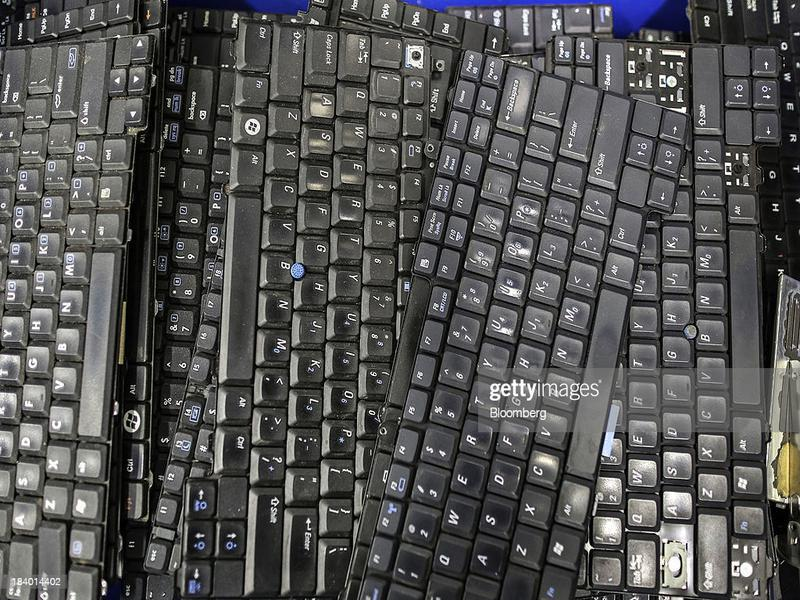keyboard: (345, 29, 695, 600), (207, 16, 430, 600), (595, 38, 792, 600), (1, 25, 161, 600)
